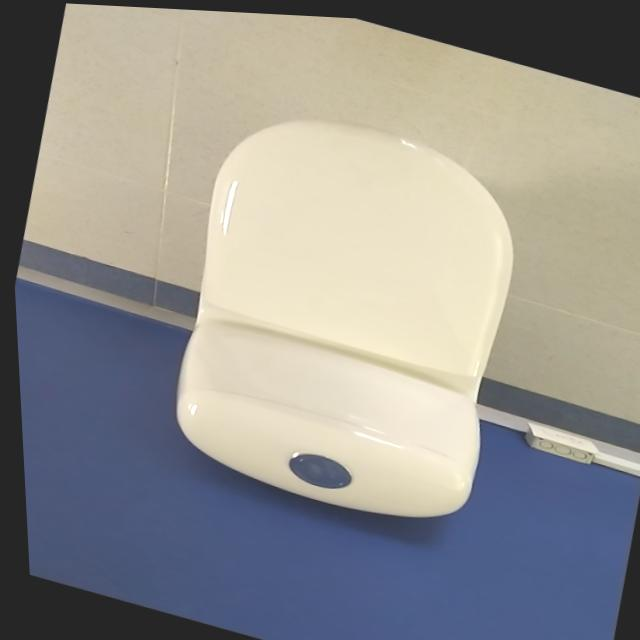toilet: (141, 82, 545, 541)
